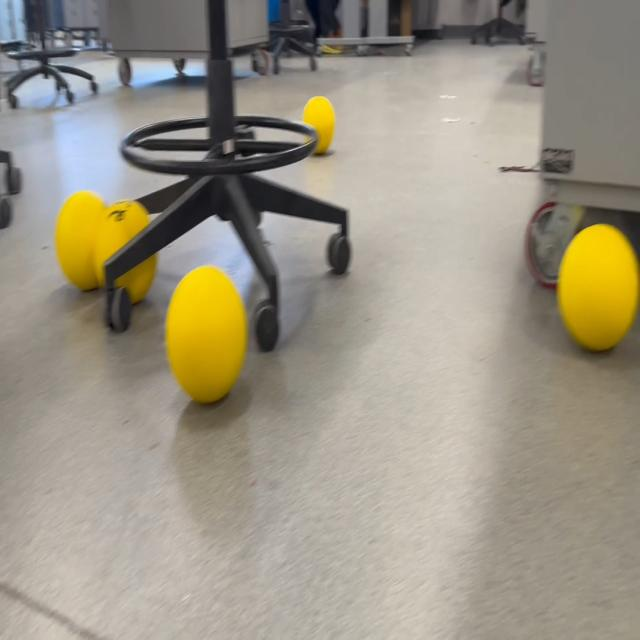Fuel: (166, 265, 247, 404), (558, 223, 640, 351), (94, 199, 156, 303), (55, 190, 110, 292), (303, 96, 335, 155)
